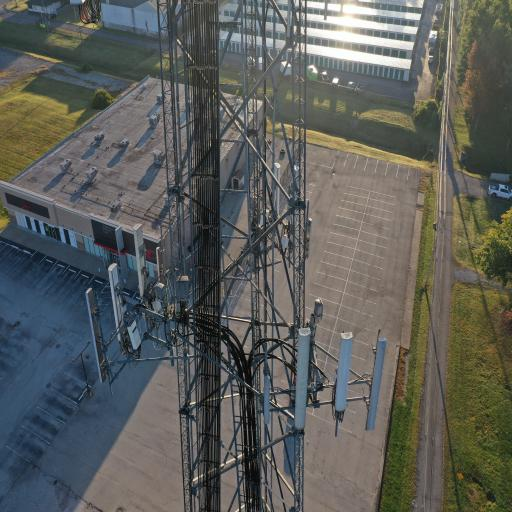supporting_tower: (66, 0, 398, 512)
